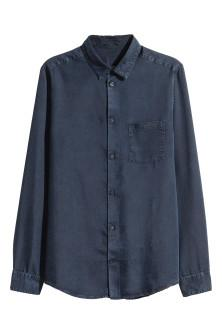teeshirt: (11, 34, 214, 306)
